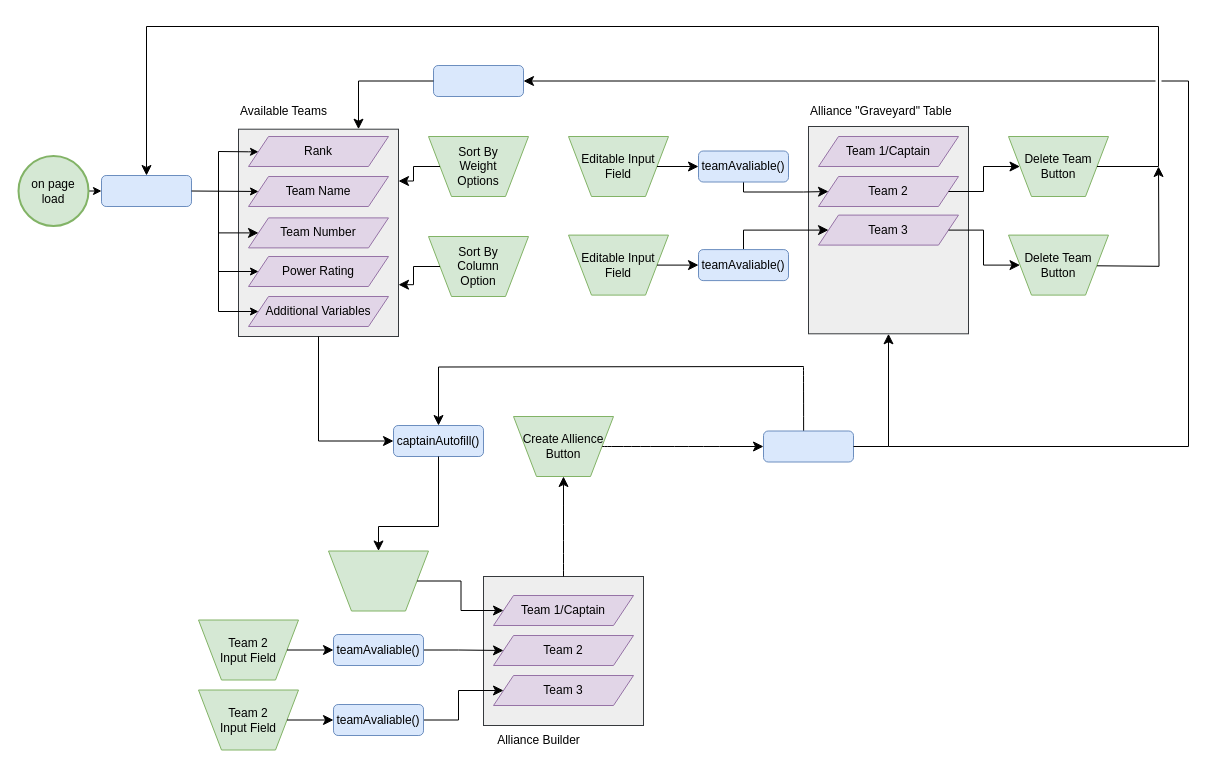
Image size: 1216x773. Some labels were removed from this diagram. The shapes that lost their labels are listed below. From the top down, each one's centre as x and y in pixels, then its label:
pixel 478 80: removeTeams()
pixel 146 190: getTeamData()
pixel 808 446: createAllience()
pixel 378 580: Team Captain Input Field
